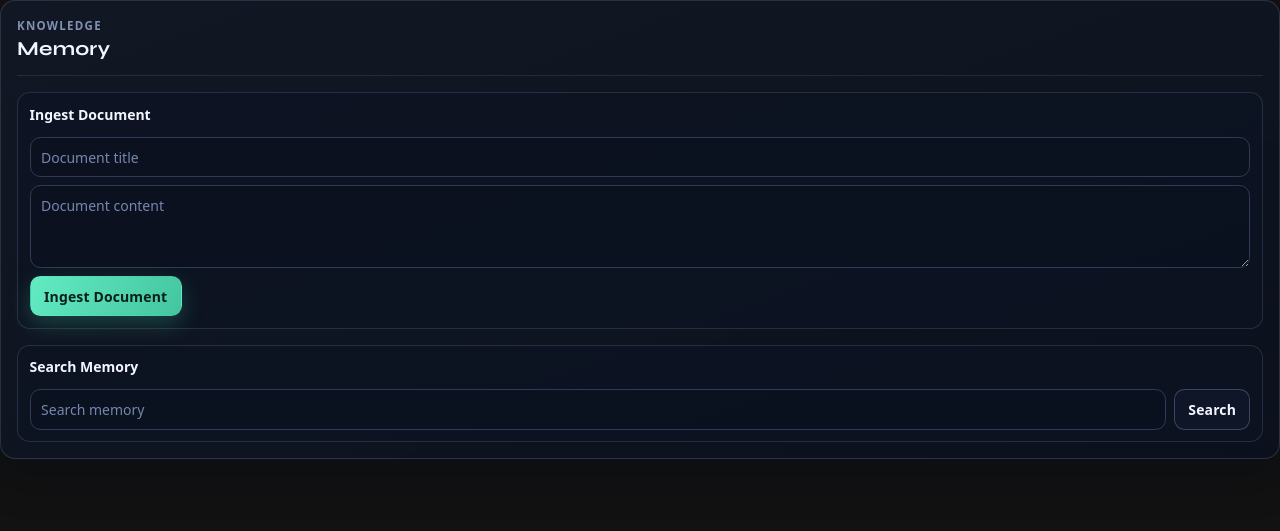
it: MemoryPanel › uses fallback messages for non-Error failures
Type "Spec" into the field with placeholder "Document title" at [640, 157], box x1=30 y1=137 x2=1250 y2=177
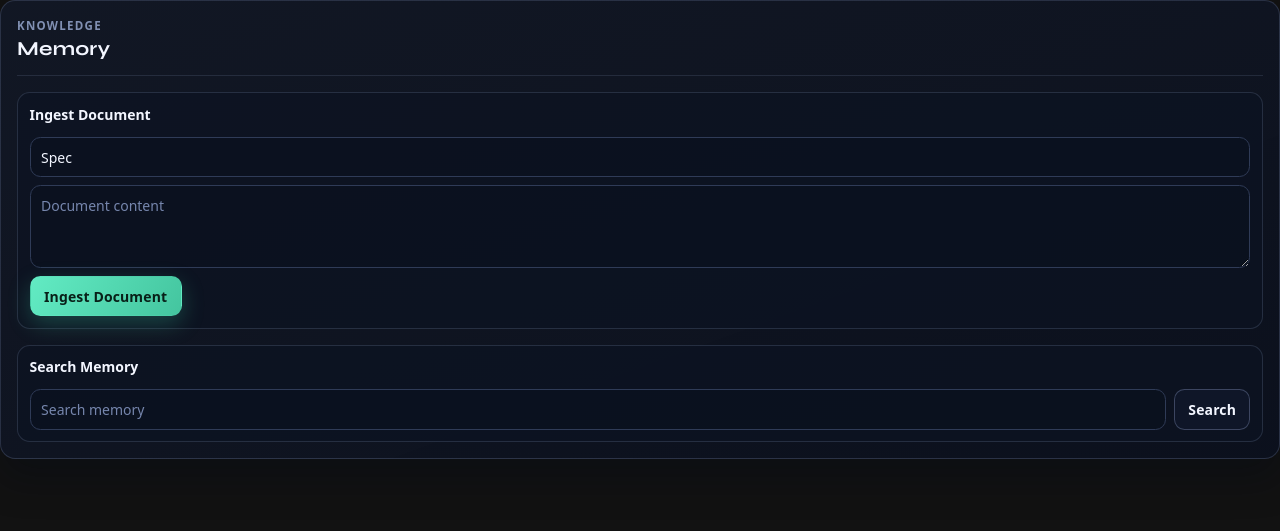
Type "content" into the text box with placeholder "Document content" at [640, 227], box x1=30 y1=185 x2=1250 y2=268
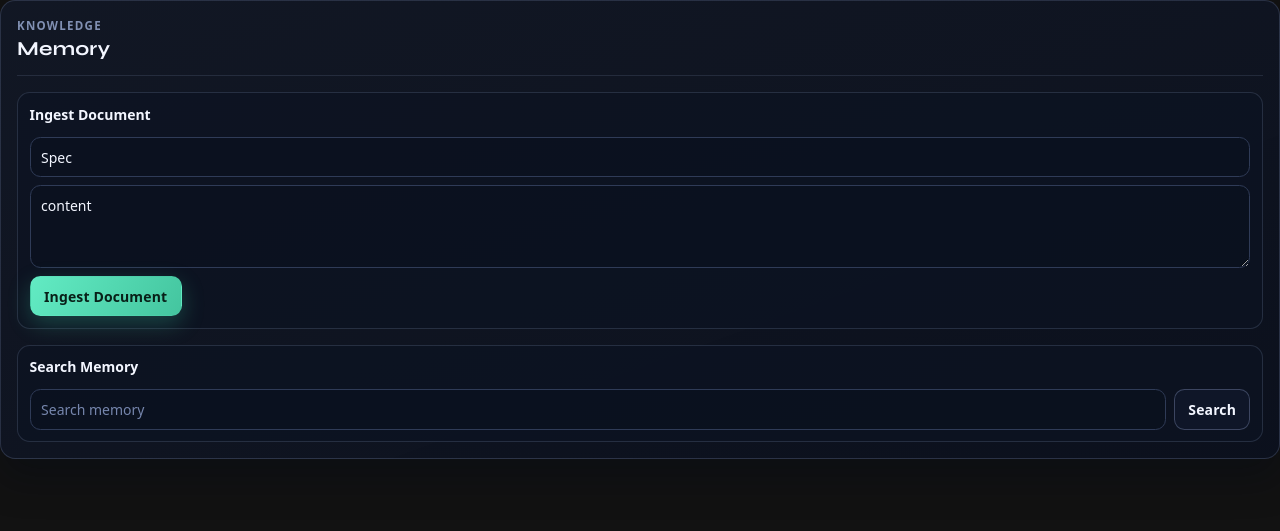
Click the button "Ingest Document" at [106, 296], box x1=30 y1=276 x2=182 y2=316
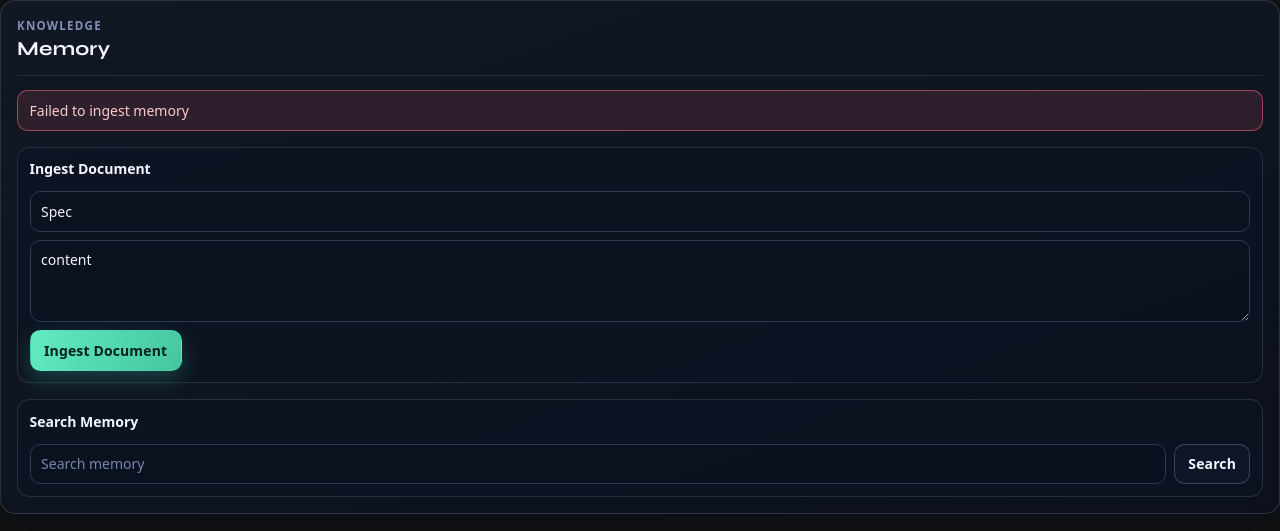
expect the text "Failed to ingest memory" is shown: met, box x1=17 y1=90 x2=1263 y2=131
Type "agent" into the field with placeholder "Search memory" at [598, 464], box x1=30 y1=444 x2=1166 y2=484
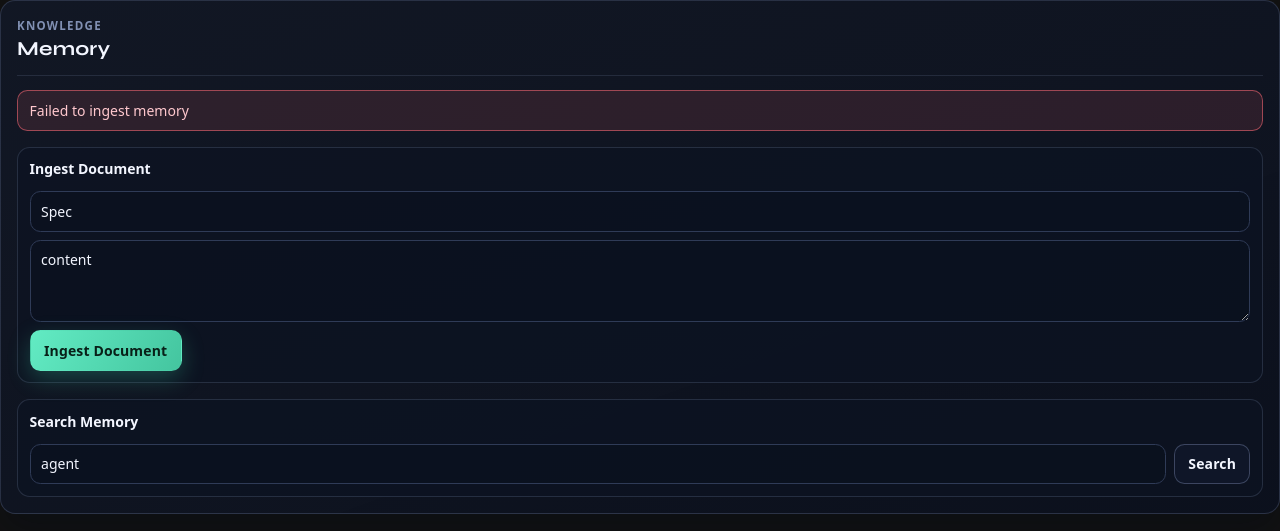
Click the button "Search" at [1212, 464], box x1=1174 y1=444 x2=1250 y2=484
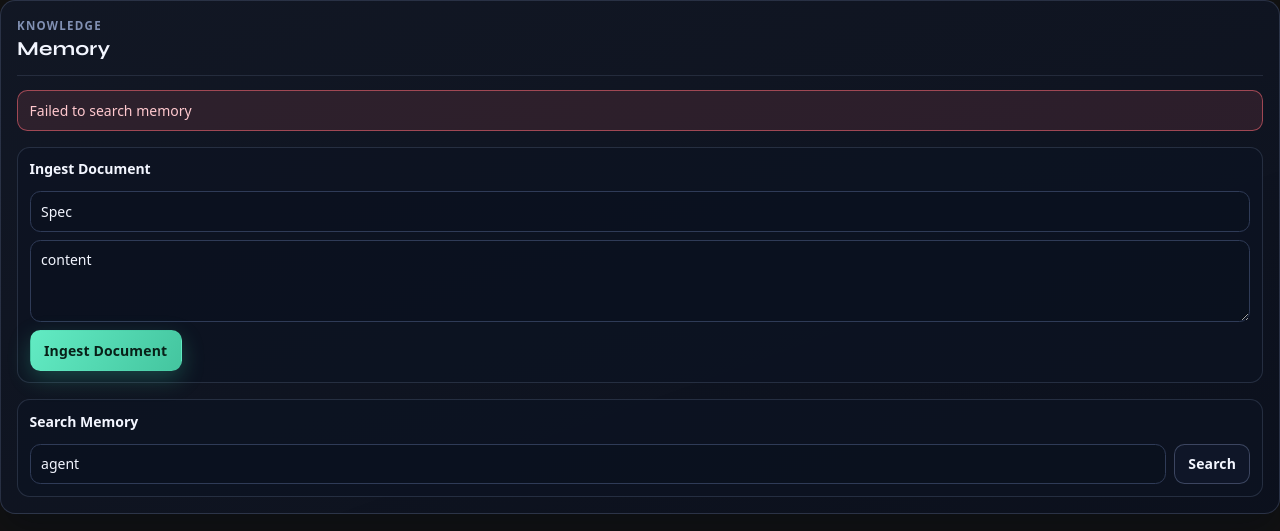
expect the text "Failed to search memory" is shown: met, box x1=17 y1=90 x2=1263 y2=131
